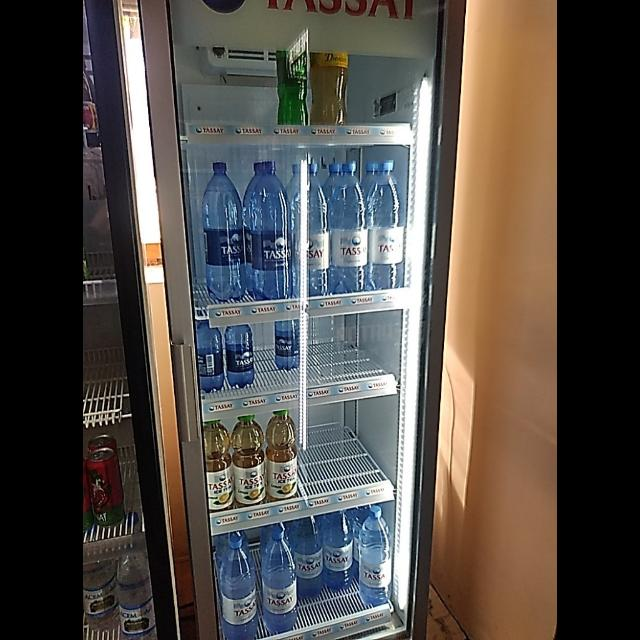Cooling-Display: (138, 1, 466, 640)
